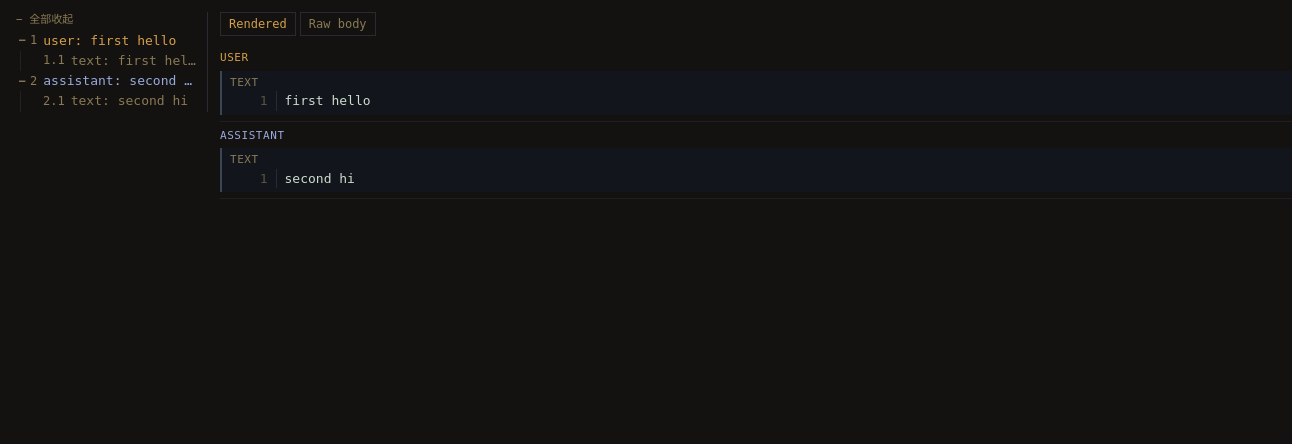
Scenario: ConvoSegment › Raw body shows the messages JSON (not request-level fields) and hides the TOC + conversation
Click the button "Raw body" at (338, 24), box x1=300 y1=12 x2=376 y2=36
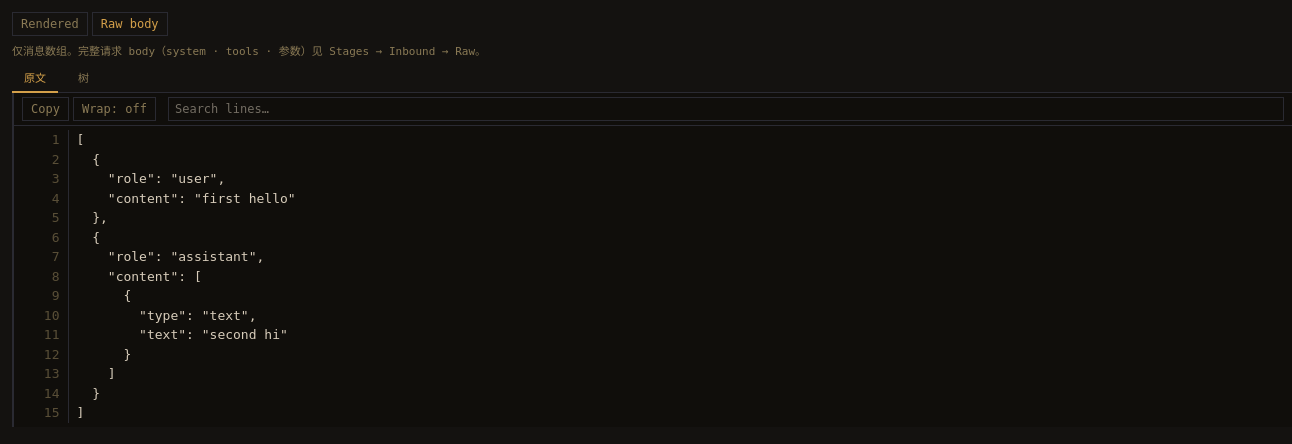
Check: the text "first hello" is shown, box x1=76 y1=190 x2=296 y2=206
Check: the button "user: first hello" is gone
Check: the navigation bar is gone
